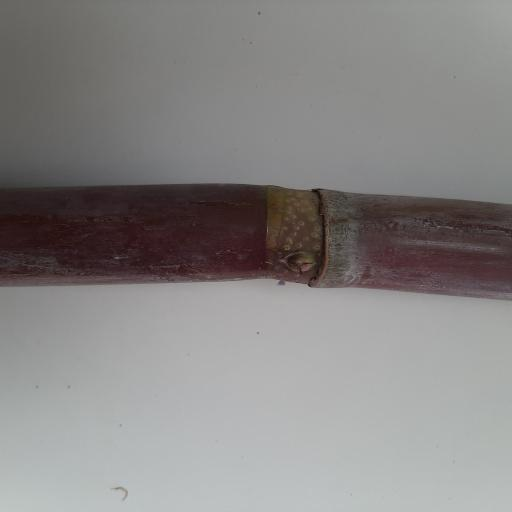Bud: (280, 250, 318, 275)
